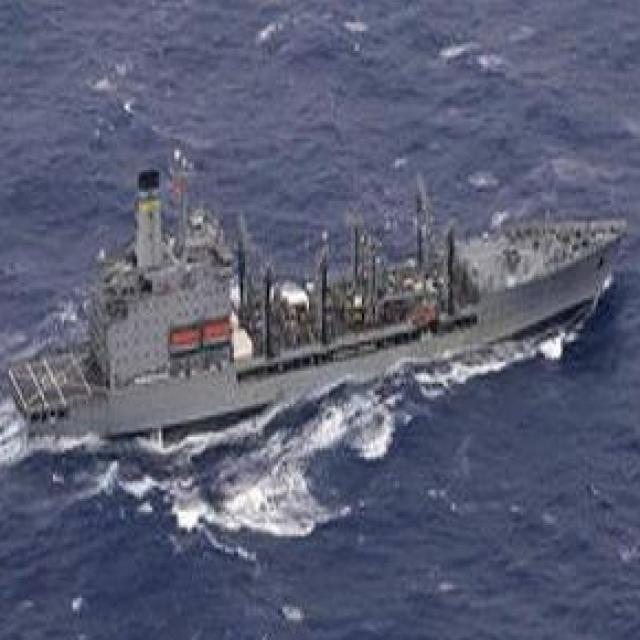navalvessels: (6, 166, 625, 436)
